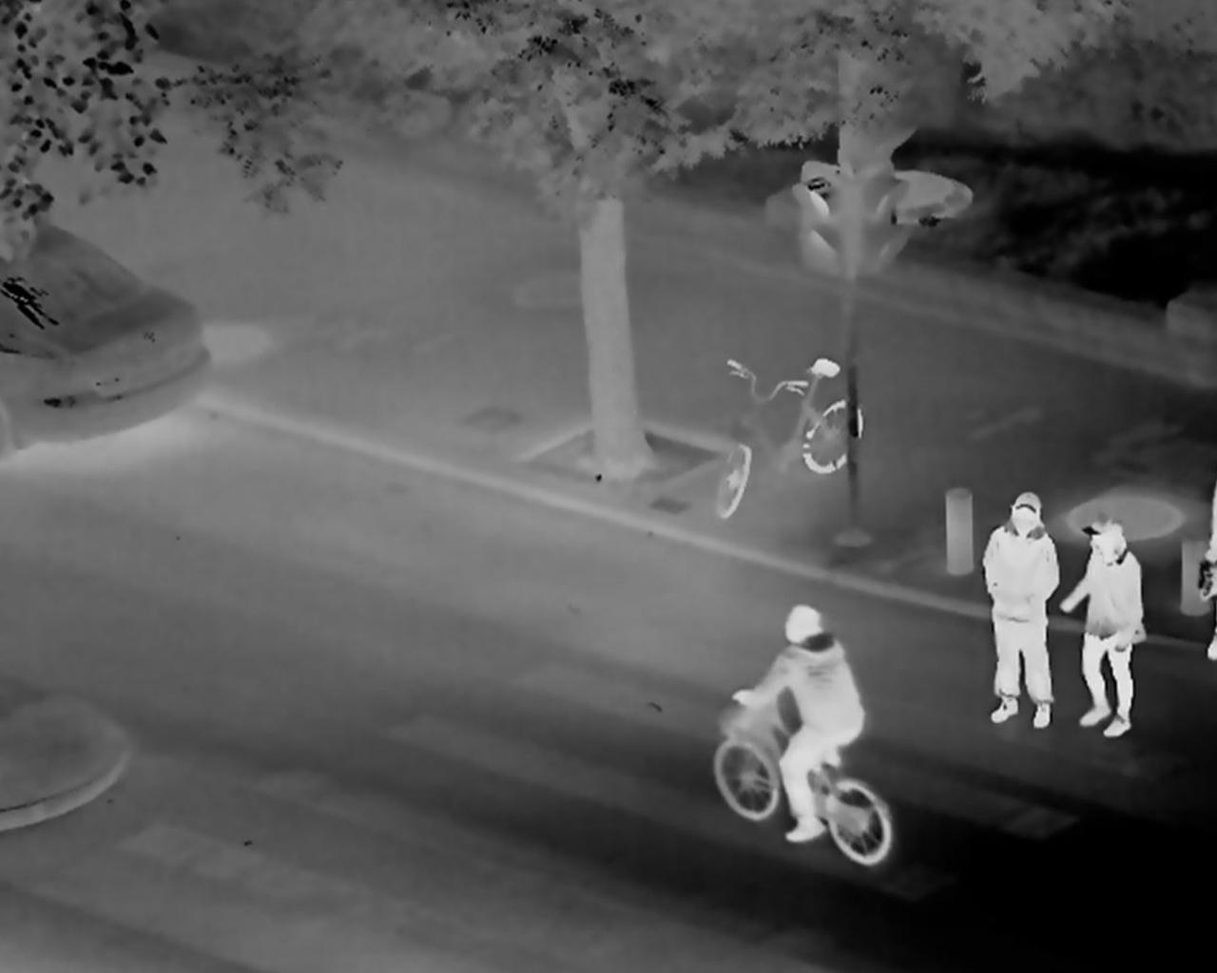person: (736, 604, 866, 845), (982, 492, 1059, 727), (1062, 517, 1143, 735)
